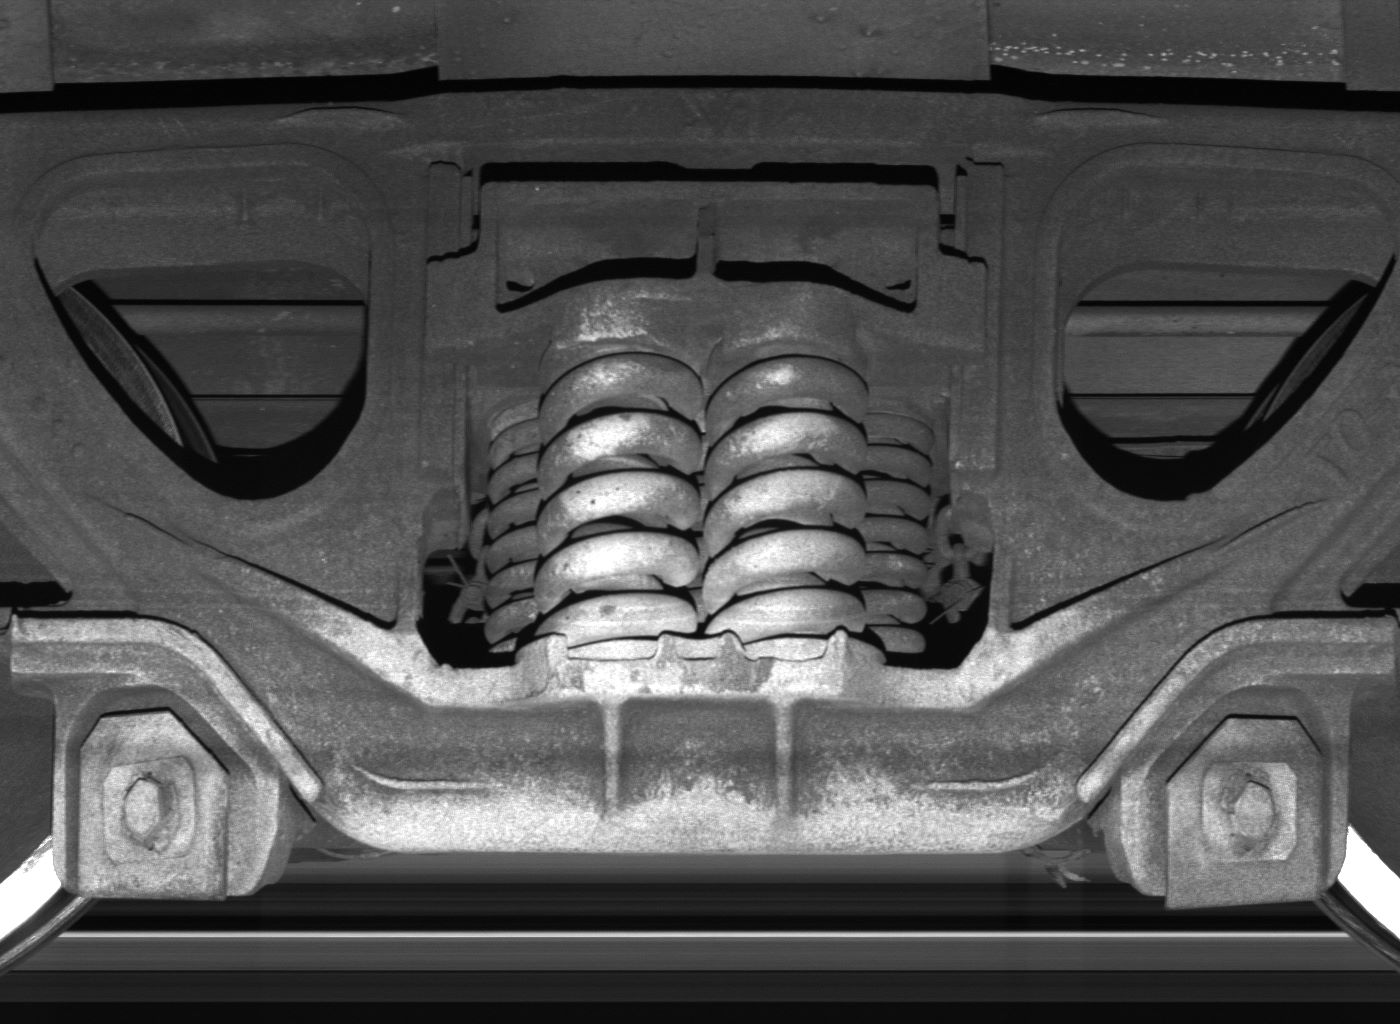Locking plate: (1116, 685, 1350, 912)
normal: (55, 686, 278, 904)
